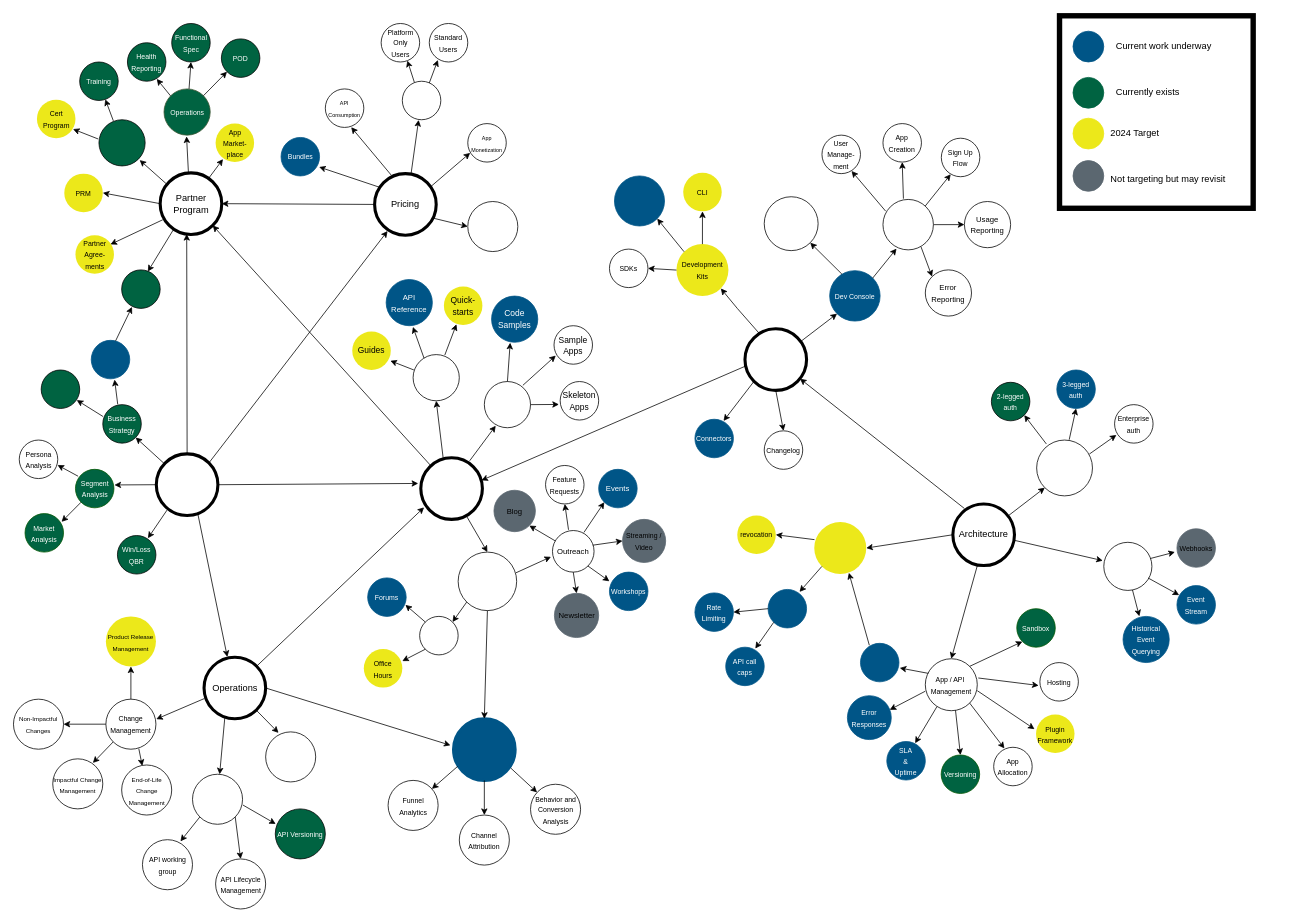
Image size: 1297x922. Some labels were removed from this diagram. Each missing label, with the centre of its shape:
API Client Collections: the point at 639,200
API Governance: the point at 217,798
API Key Management: the point at 790,223
App Management Dashboard: the point at 907,224
Authentication / Authorization: the point at 1064,467
Business: the point at 186,484
Dev Tools: the point at 775,359
Developer Experience: the point at 451,488
Document-ation: the point at 435,377
Enablement: the point at 121,142
Engagement: the point at 487,581
Eventing: the point at 1127,566
Limits & Rates: the point at 787,608
Platform Strategy: the point at 110,359
Playbooks: the point at 60,388
Product Analytics: the point at 484,749
Product Roadmap: the point at 290,756
Samples: the point at 507,404
Scopes: the point at 879,662
Support: the point at 438,635
Support & Enablement: the point at 492,226
Target Use Cases: the point at 140,288
Token Management: the point at 840,548
User Monitization: the point at 421,100
